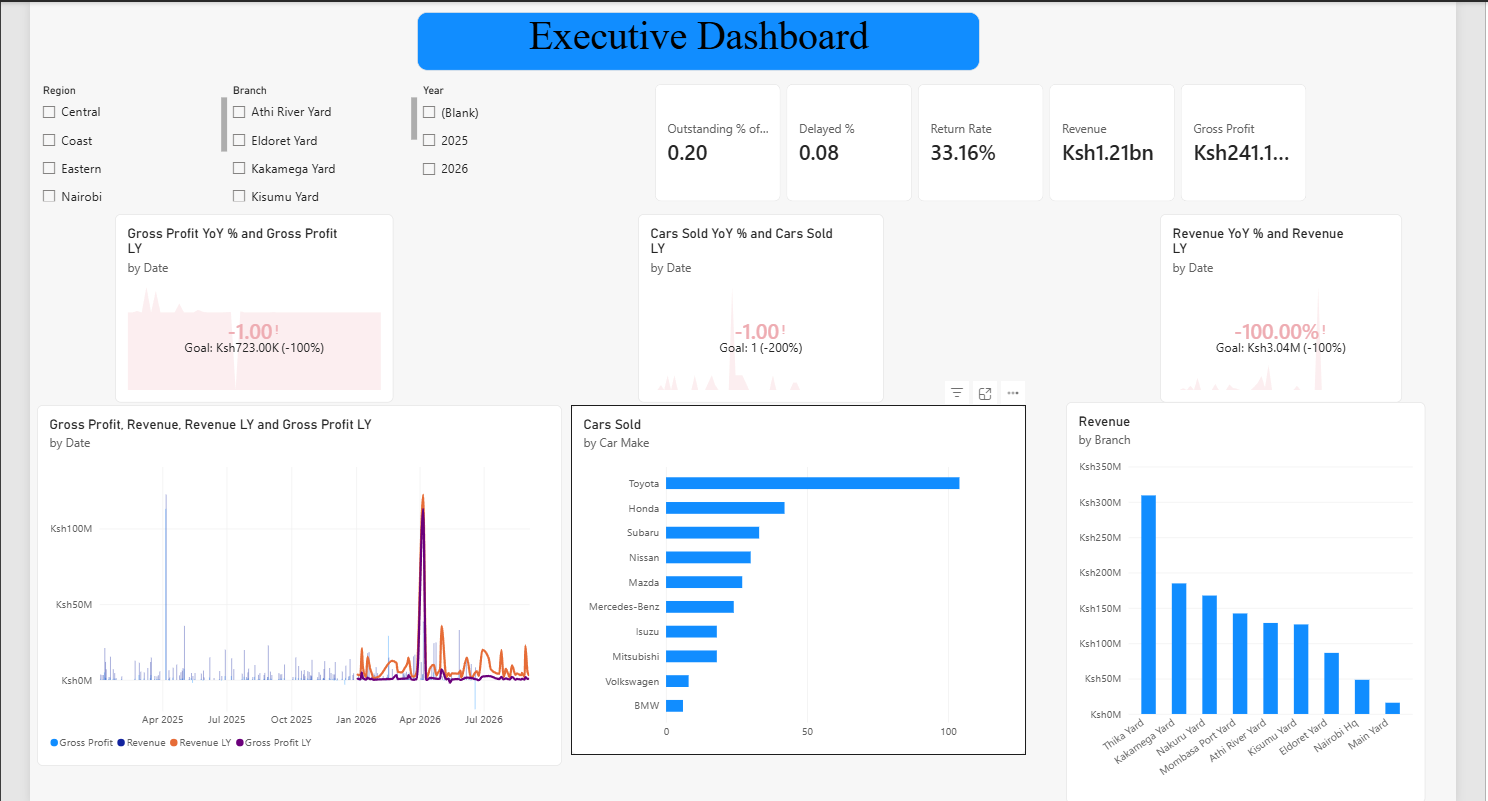

What the dashboard file says about the page in this screenshot:
{"tool":"powerbi","page":{"name":"Page 1","canvas":[1920,1080],"ordinal":0},"visuals":[{"type":"kpi","fields":{"Goal":["Jcars_Measures.Gross Profit LY"],"Indicator":["Jcars_Measures.Gross Profit YoY %"],"TrendLine":["Date_dmTable.Date"]},"box":[114.1,285.3,375.5,254],"z":0},{"type":"kpi","fields":{"Goal":["Jcars_Measures.Revenue LY"],"Indicator":["Jcars_Measures.Revenue YoY %"],"TrendLine":["Date_dmTable.Date"]},"box":[1522.1,285.3,325.8,254],"z":1000},{"type":"kpi","fields":{"Goal":["Jcars_Measures.Cars Sold LY"],"Indicator":["Jcars_Measures.Cars Sold YoY %"],"TrendLine":["Date_dmTable.Date"]},"box":[819,285.3,331.3,254],"z":2000},{"type":"slicer","fields":{"Values":["Date_dmTable.Year"]},"box":[520.9,110.4,255.8,158.3],"z":3000},{"type":"slicer","fields":{"Values":["Region_dmTable.Region"]},"box":[9.2,110.4,255.8,158.3],"z":4000},{"type":"slicer","fields":{"Values":["Branch_dmTable.Branch"]},"box":[265,110.4,255.8,158.3],"z":5000},{"type":"cardVisual","fields":{"Data":["Jcars_Measures.Outstanding % of Revenue","Jcars_Measures.Delayed %","Jcars_Measures.Return Rate","Jcars_Measures.Revenue","Jcars_Measures.Gross Profit"]},"box":[841.1,110.4,881.6,158.3],"z":6000},{"type":"lineClusteredColumnComboChart","fields":{"Category":["Date_dmTable.Date"],"Y":["Jcars_Measures.Gross Profit","Jcars_Measures.Revenue"],"Y2":["Jcars_Measures.Revenue LY","Jcars_Measures.Gross Profit LY"]},"box":[9.2,542.9,706.8,485.9],"z":7000},{"type":"clusteredBarChart","fields":{"Category":["Vehicles_dmTable.Car Make"],"Y":["Jcars_Measures.Cars Sold"]},"box":[728.8,542.9,612.9,471.2],"z":8000},{"type":"clusteredColumnChart","fields":{"Category":["Branch_dmTable.Branch"],"Y":["Jcars_Measures.Revenue"]},"box":[1395.1,539.3,484.1,541.1],"z":9000},{"type":"textbox","box":[520.9,12.9,758.3,79.1],"z":10000}]}

Visuals, with their boxes on the page's 1920x1080 design canvas (x1, y1, x2, y2). These are canvas units, not pixel positions in the 1488x801 screenshot, which may show the page scaled, cropped or inside an application window:
kpi - Jcars_Measures.Gross Profit LY x Jcars_Measures.Gross Profit YoY %: box(114, 285, 490, 539)
kpi - Jcars_Measures.Revenue LY x Jcars_Measures.Revenue YoY %: box(1522, 285, 1848, 539)
kpi - Jcars_Measures.Cars Sold LY x Jcars_Measures.Cars Sold YoY %: box(819, 285, 1150, 539)
slicer - Date_dmTable.Year: box(521, 110, 777, 269)
slicer - Region_dmTable.Region: box(9, 110, 265, 269)
slicer - Branch_dmTable.Branch: box(265, 110, 521, 269)
cardVisual - Jcars_Measures.Outstanding % of Revenue x Jcars_Measures.Delayed %: box(841, 110, 1723, 269)
lineClusteredColumnComboChart - Date_dmTable.Date x Jcars_Measures.Gross Profit: box(9, 543, 716, 1029)
clusteredBarChart - Vehicles_dmTable.Car Make x Jcars_Measures.Cars Sold: box(729, 543, 1342, 1014)
clusteredColumnChart - Branch_dmTable.Branch x Jcars_Measures.Revenue: box(1395, 539, 1879, 1080)
textbox: box(521, 13, 1279, 92)
